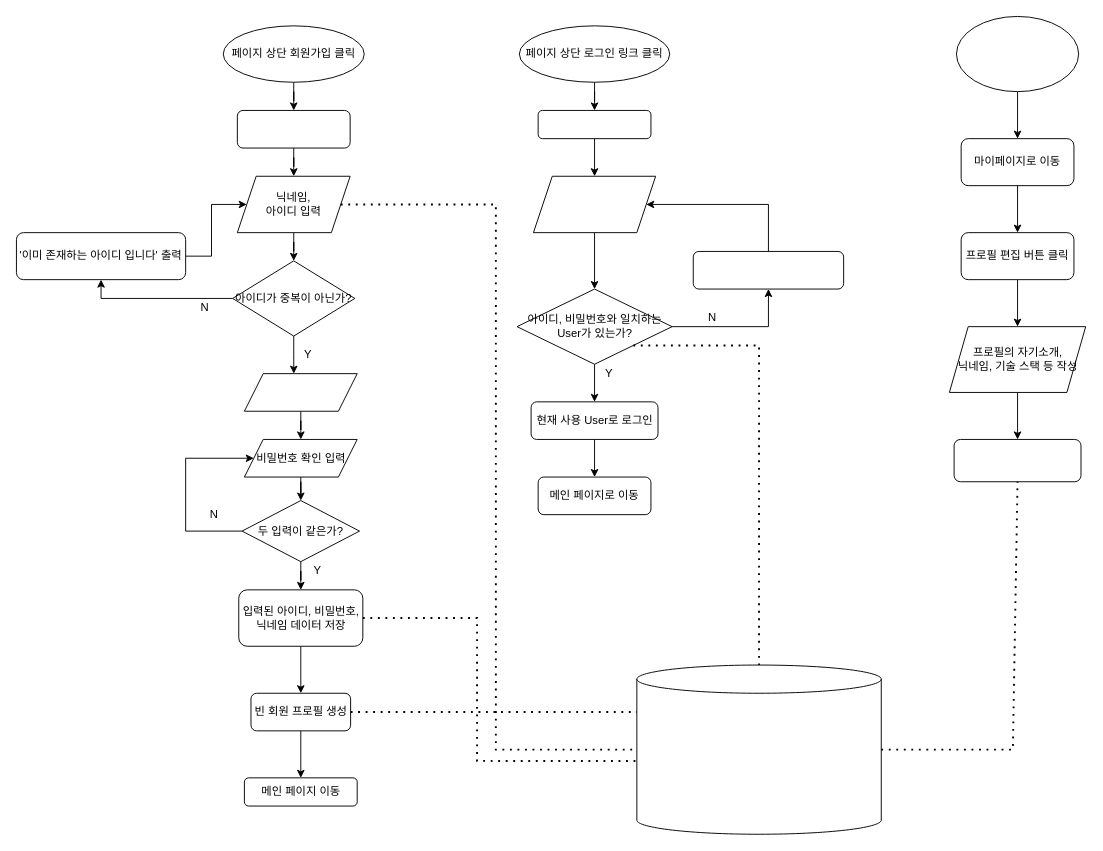
The diagram is 1103 pixels wide and 851 high, and some of its shapes have lost their labels. Each missing label, with the box of its shape:
'아이디 혹은 비밀번호가 일치하지 않습니다' 출력: (692, 251, 844, 289)
로그인 페이지 이동: (537, 110, 651, 139)
마이페이지 (아이디 링크) 클릭: (956, 16, 1079, 92)
비밀번호 입력: (243, 373, 357, 411)
사용자 DB: (636, 664, 881, 834)
아이디, 비밀번호 입력: (533, 175, 656, 233)
입력된 프로필 정보 USER DB에 저장: (953, 439, 1081, 482)
회원가입 페이지 이동: (236, 110, 350, 148)
